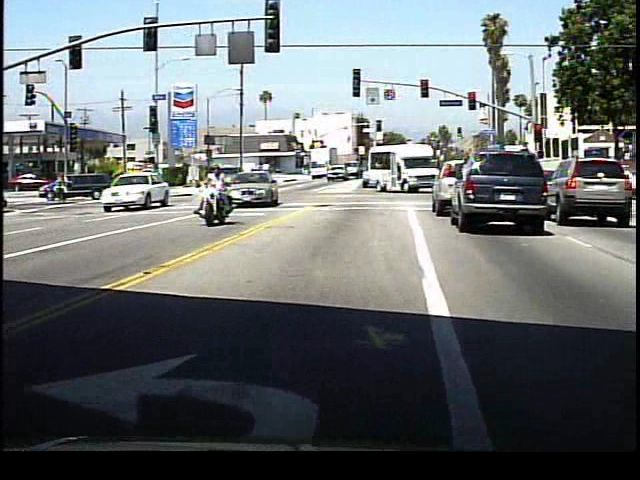person: (203, 168, 239, 225)
